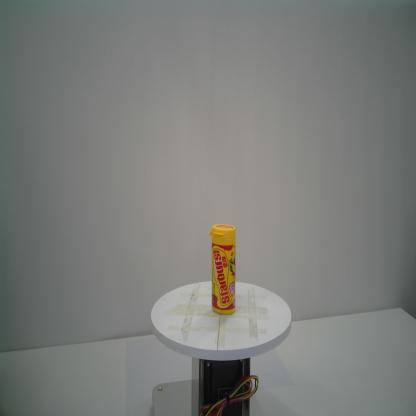Candy: (209, 223, 237, 316)
